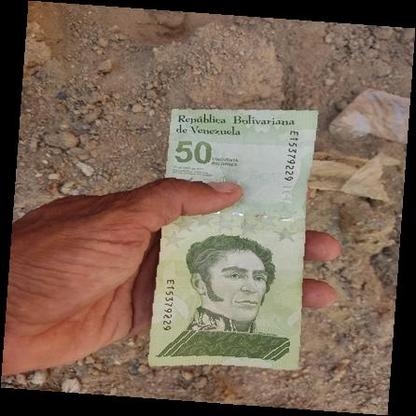fifty-front-vef: (147, 108, 319, 368)
